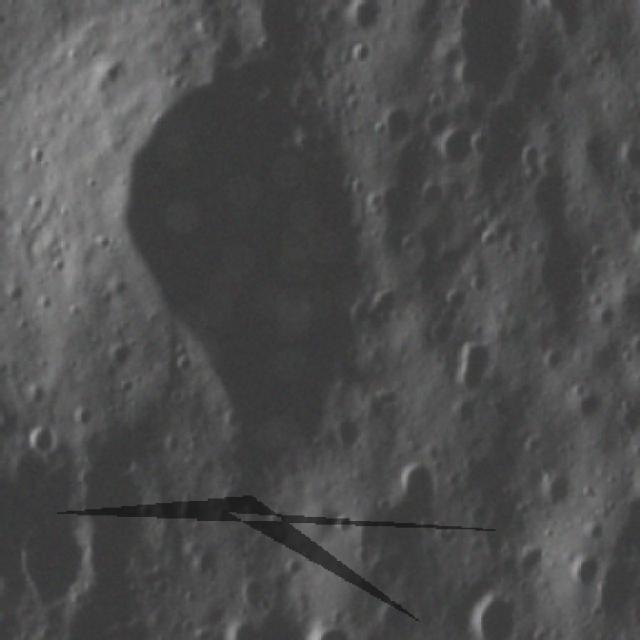crater: (102, 40, 387, 489), (346, 446, 449, 582), (439, 0, 539, 105), (12, 511, 98, 623), (448, 323, 508, 402), (429, 113, 493, 181), (463, 587, 522, 640), (534, 466, 581, 520), (10, 418, 62, 465), (563, 378, 609, 430), (431, 283, 474, 319), (292, 617, 354, 640), (570, 547, 607, 585), (588, 291, 618, 334), (536, 342, 564, 381), (627, 204, 640, 283)
